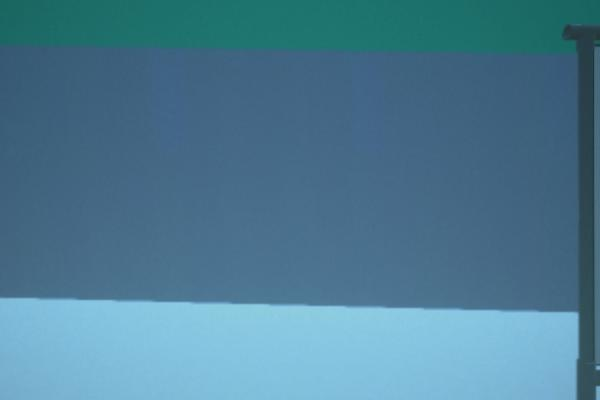torpille: (576, 25, 600, 385)
